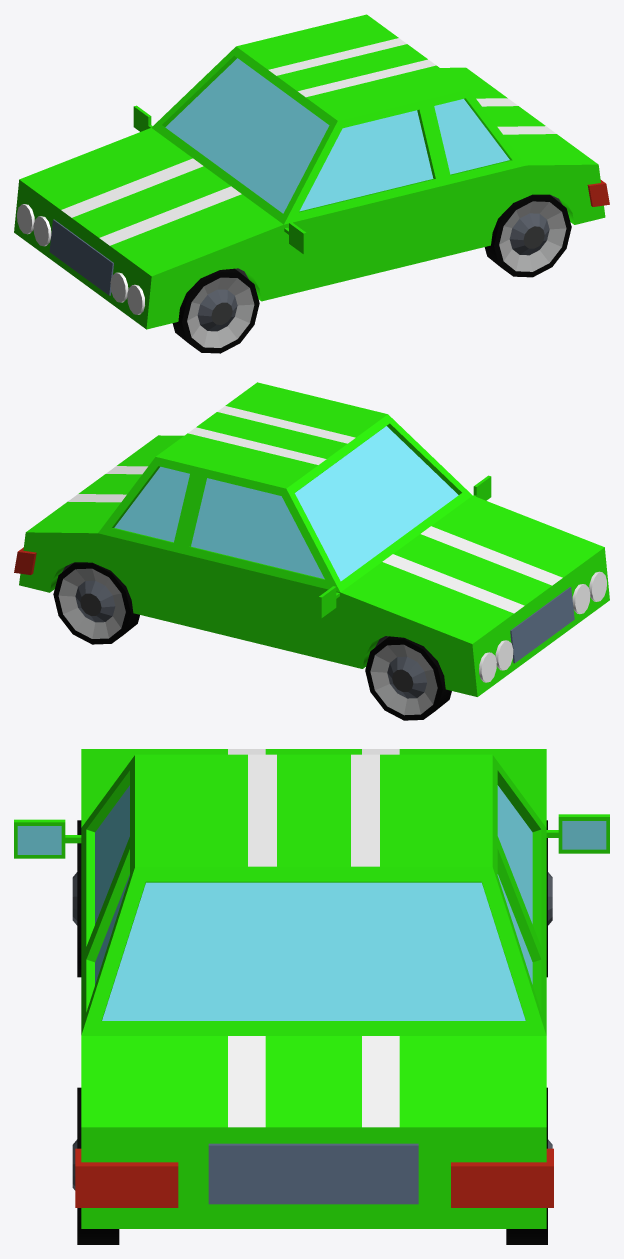
The model's file is car1C.FBX.
3 views of the same model, one above another, from view 1: azimuth 30°, elevation 25°; view 2: azimuth 150°, elevation 25°; view 3: azimuth 270°, elevation 25° (orthographic). The views are drawn at different scales.
Parts seen in each view (by area): view 1: car1C; view 2: car1C; view 3: car1C.
Boxes of the visible parts, x1,y1,x2,y2 form: car1C: [14, 14, 609, 353]; car1C: [14, 382, 609, 720]; car1C: [14, 749, 609, 1244].
Bounding box in the file's own units: 10.1 × 3.92 × 6.4.
